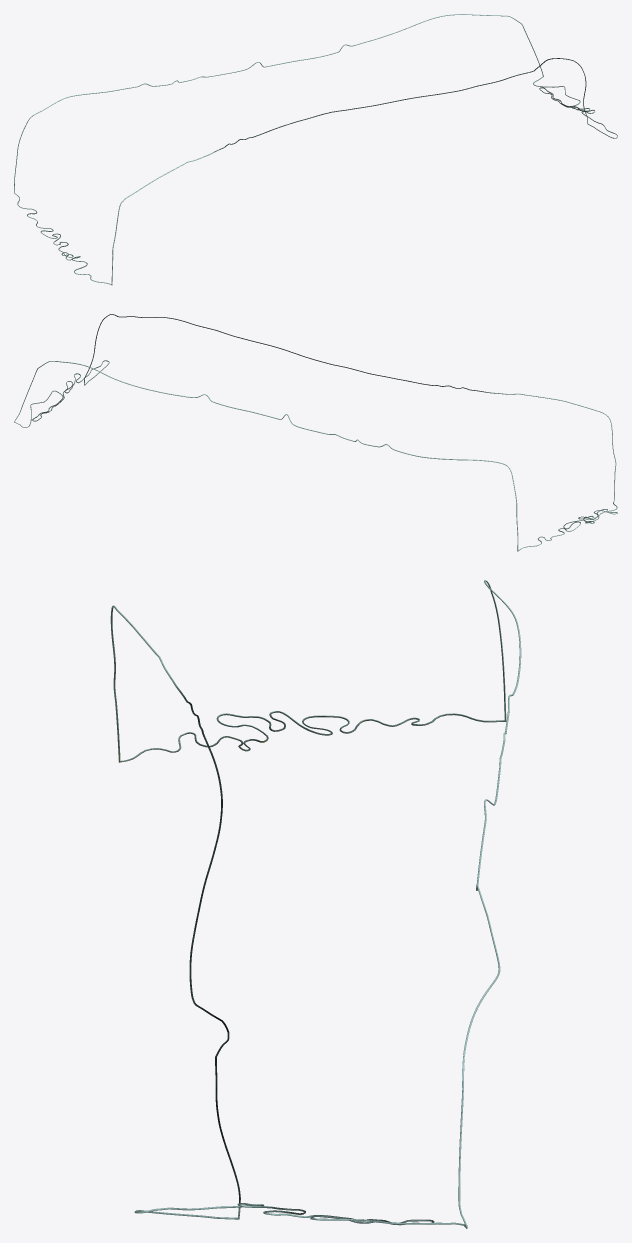
Rendered from chuang01.14.obj.
3 renders of one model, top to bottom at view 1: azimuth 30°, elevation 25°; view 2: azimuth 150°, elevation 25°; view 3: azimuth 270°, elevation 25°, orthographic. The views are drawn at different scales.
Visible parts, largest first — view 1: 093; view 2: 093; view 3: 093.
Boxes of the visible parts, left/top/right/bottom form: 093: left=14, top=14, right=617, bottom=285; 093: left=14, top=314, right=617, bottom=551; 093: left=110, top=580, right=521, bottom=1228.
Bounding box in the file's own units: 166 × 30.15 × 55.27.
